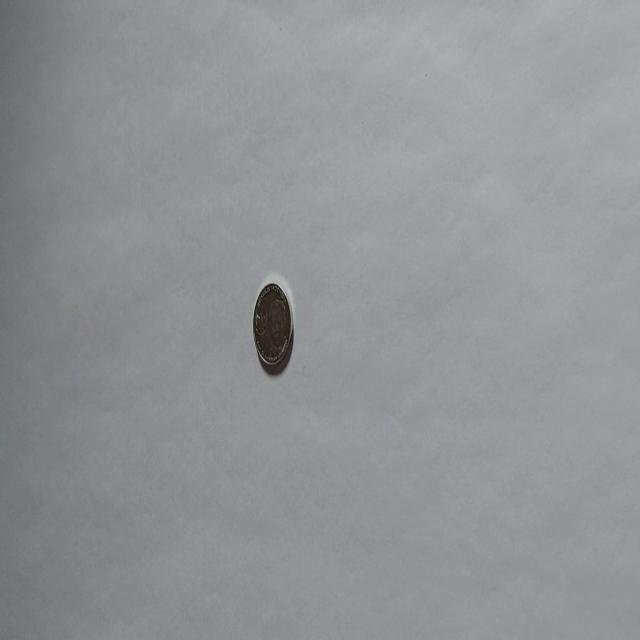seratus rupiah: (252, 280, 294, 373)
